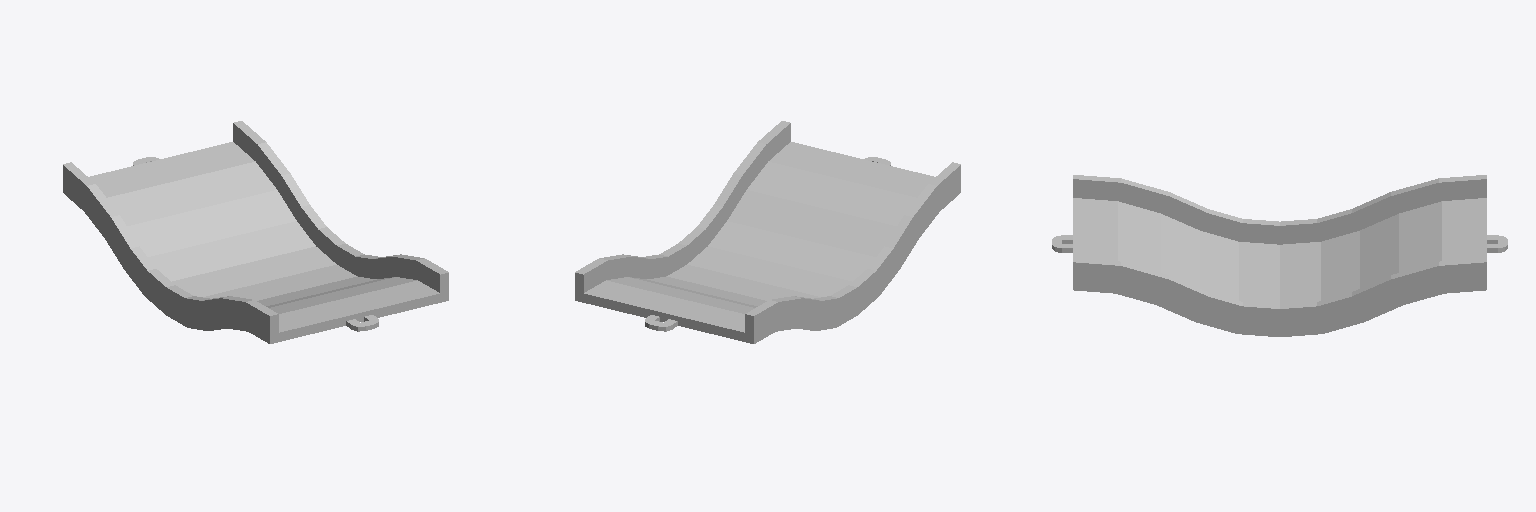
Rendered from track-wide-straight-bump-down.obj.
3 renders of one model, left to right at view 1: azimuth 30°, elevation 25°; view 2: azimuth 150°, elevation 25°; view 3: azimuth 270°, elevation 25°, orthographic.
Parts seen in each view (by area): view 1: track-wide-straight-bump-down; view 2: track-wide-straight-bump-down; view 3: track-wide-straight-bump-down.
Part boxes in pixels (left/top/right/bottom): track-wide-straight-bump-down: left=63, top=121, right=448, bottom=343; track-wide-straight-bump-down: left=575, top=121, right=960, bottom=343; track-wide-straight-bump-down: left=1052, top=175, right=1507, bottom=336.
Bounding box in the file's own units: 2 × 0.8 × 4.4.